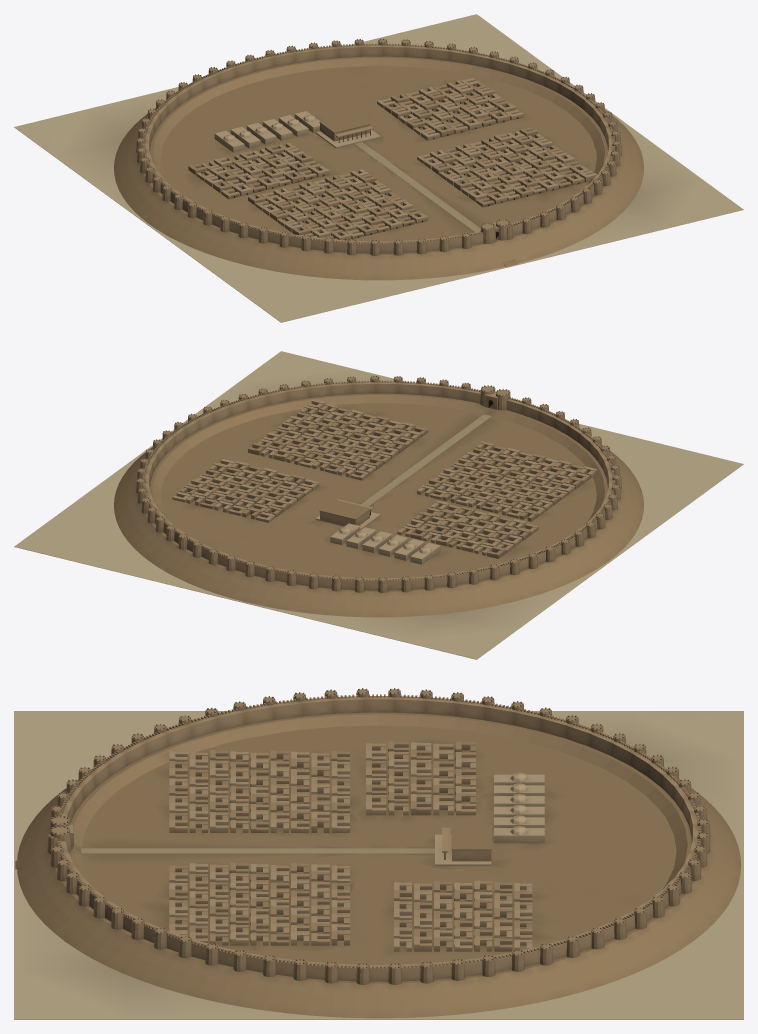
The model's file is erk-kala.glb.
3 renders of one model, top to bottom at view 1: azimuth 30°, elevation 25°; view 2: azimuth 150°, elevation 25°; view 3: azimuth 270°, elevation 25°, orthographic. The views are drawn at different scales.
Visible parts, largest first — view 1: p0_rampart, p2_citadel, p1_walls; view 2: p0_rampart, p2_citadel, p1_walls; view 3: p0_rampart, p2_citadel, p1_walls.
Boxes of the visible parts, x1=… form: p0_rampart: x1=14, y1=14, x2=743, y2=322; p2_citadel: x1=188, y1=78, x2=597, y2=240; p1_walls: x1=136, y1=38, x2=621, y2=255; p0_rampart: x1=14, y1=351, x2=743, y2=659; p2_citadel: x1=172, y1=399, x2=597, y2=564; p1_walls: x1=136, y1=375, x2=621, y2=592; p0_rampart: x1=14, y1=711, x2=743, y2=1019; p2_citadel: x1=81, y1=741, x2=544, y2=951; p1_walls: x1=47, y1=688, x2=710, y2=984.
Size of the model in its own units: 520 by 32.5 by 520.
